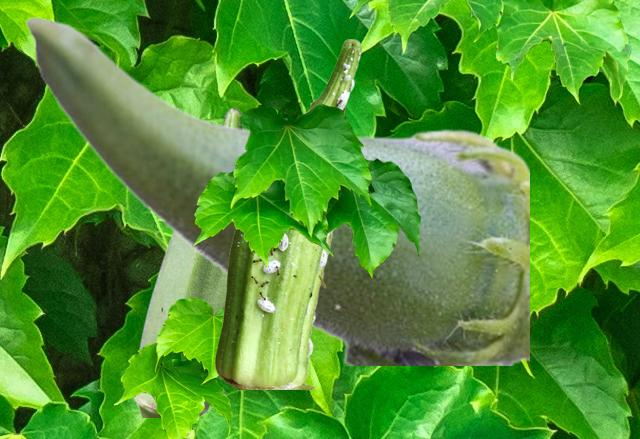okra: (24, 15, 528, 364), (215, 39, 361, 388), (132, 107, 243, 416)
